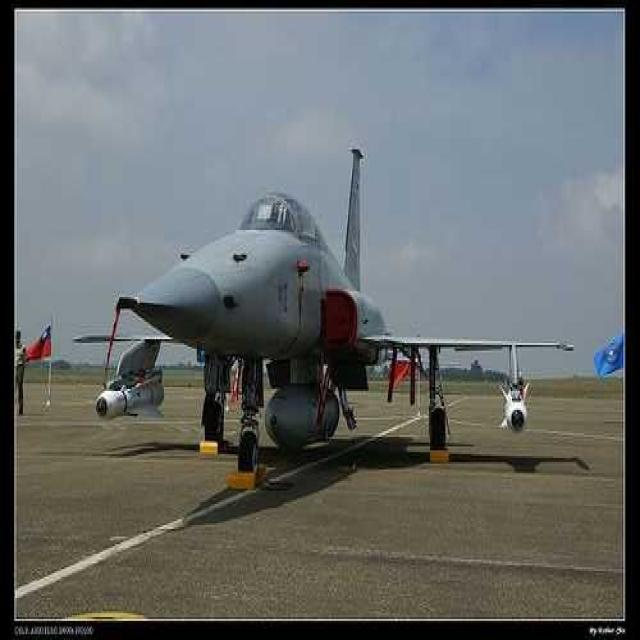missile: (96, 362, 168, 427), (496, 383, 532, 435)
